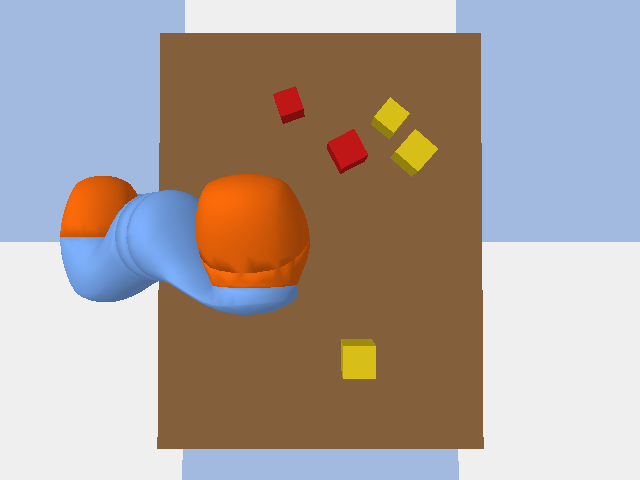red_obj: (327, 129, 367, 173), (273, 86, 304, 123)
yellow_obj: (390, 129, 437, 176), (371, 97, 409, 139), (341, 339, 375, 378)
